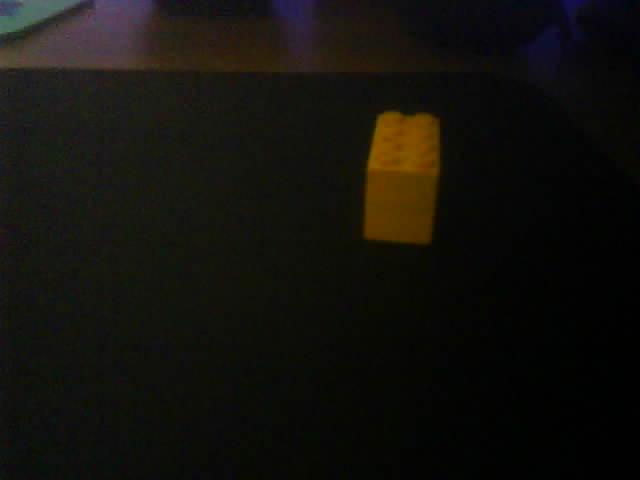lego: (362, 109, 440, 245)
